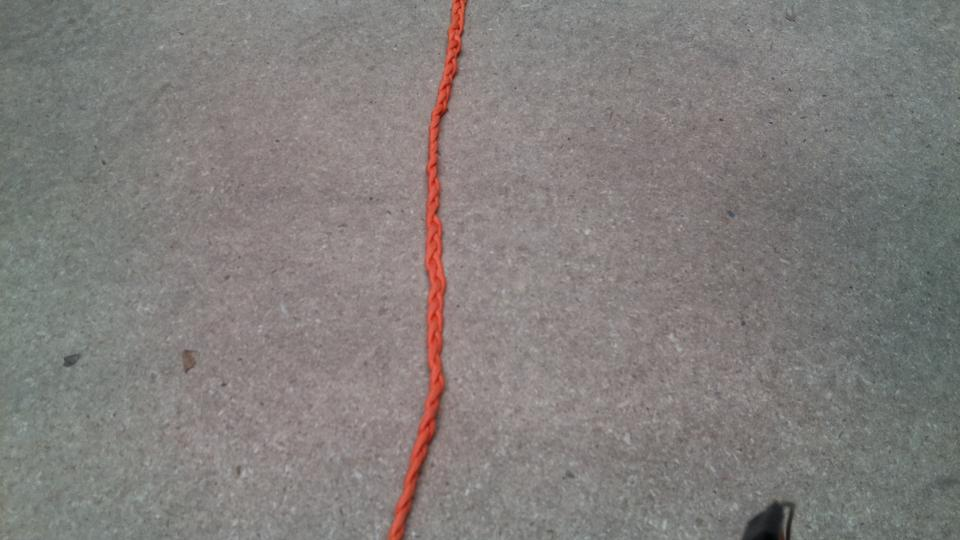rope: (381, 1, 470, 539)
